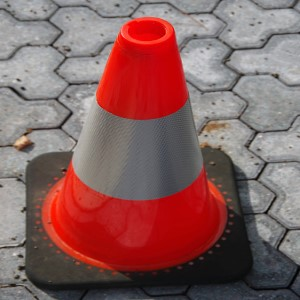traffic cone: (25, 16, 253, 290)
